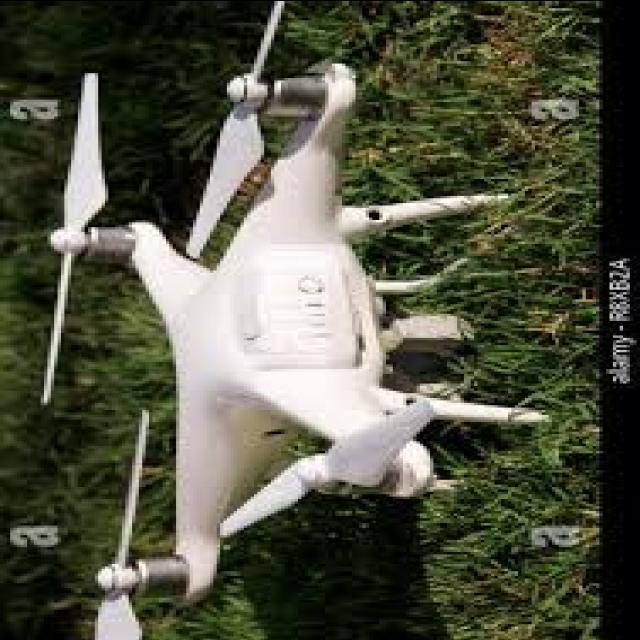drone: (28, 0, 564, 640)
